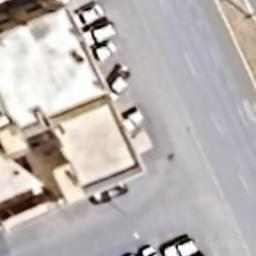SUV: (78, 21, 119, 49)
sedan: (84, 182, 130, 206), (68, 2, 107, 28), (107, 63, 129, 102), (122, 104, 146, 138), (163, 235, 200, 256), (90, 41, 117, 62)
